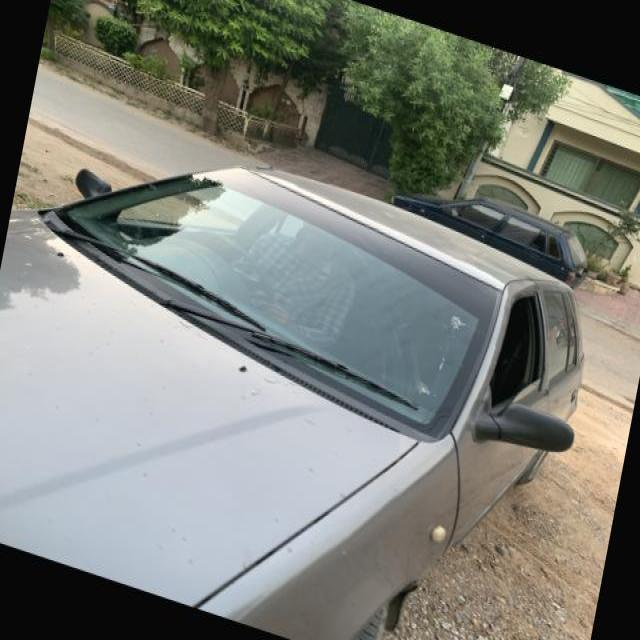no-seatbelt: (247, 221, 366, 342)
